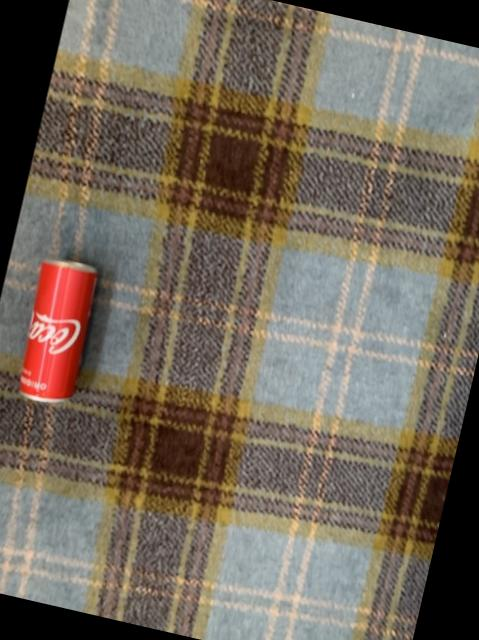metal: (18, 257, 94, 399)
